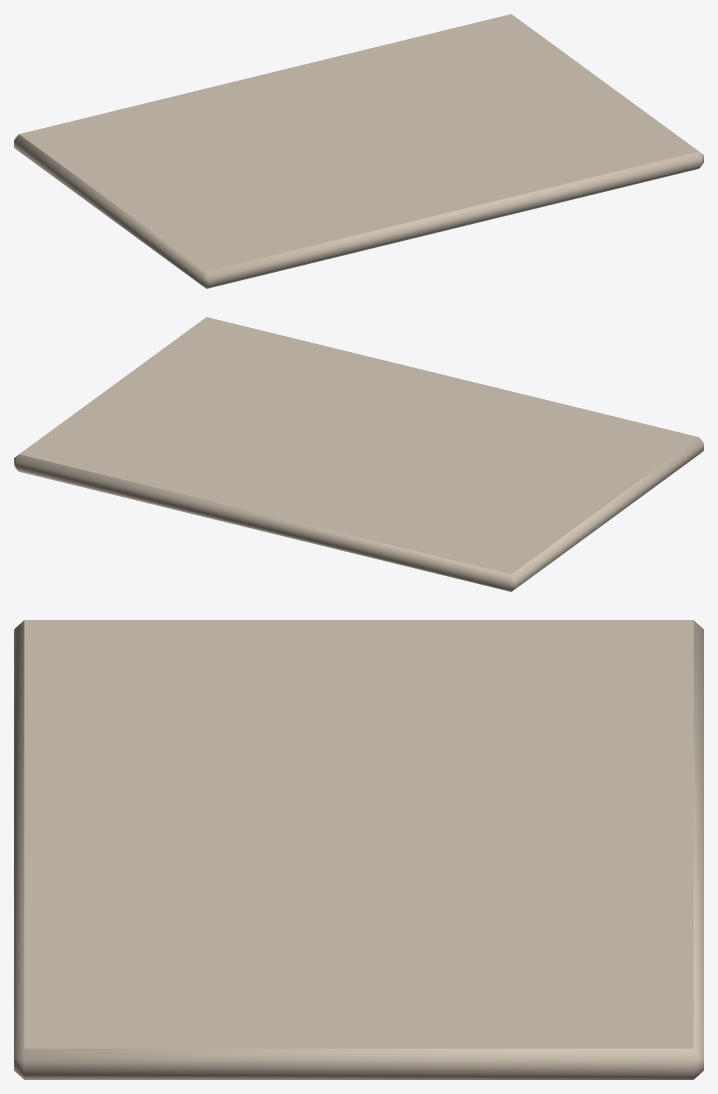
The model's file is rug_rectangle_A.obj.
3 renders of one model, top to bottom at view 1: azimuth 30°, elevation 25°; view 2: azimuth 150°, elevation 25°; view 3: azimuth 270°, elevation 25°, orthographic. The views are drawn at different scales.
Visible parts, largest first — view 1: rug_rectangle_A_Cube.020; view 2: rug_rectangle_A_Cube.020; view 3: rug_rectangle_A_Cube.020.
Boxes of the visible parts, x1,y1,x2,y2 form: rug_rectangle_A_Cube.020: (14, 14, 703, 288); rug_rectangle_A_Cube.020: (14, 317, 703, 591); rug_rectangle_A_Cube.020: (14, 620, 703, 1079).
Size of the model in its own units: 3 by 0.1 by 2.
Materials: 1 (1 with a texture image).
